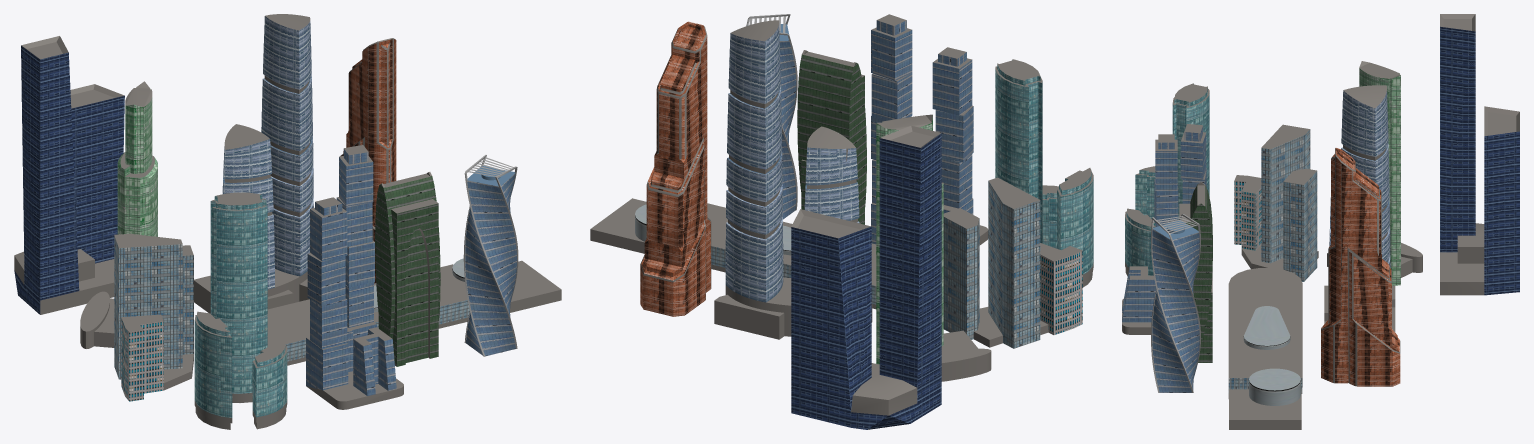
The model's file is Москва-Сити.fbx.
3 renders of one model, left to right at view 1: azimuth 30°, elevation 25°; view 2: azimuth 150°, elevation 25°; view 3: azimuth 270°, elevation 25°, orthographic. The views are drawn at different scales.
Visible parts, largest first — view 1: 8_lvl10, 8_lvl8, 8_lvl4, 8_lvl5, 8_lvl6, 8_lvl3, 8_lvl2, 8_lvl9, 8_lvl7, 8_lvl1; view 2: 8_lvl10, 8_lvl8, 8_lvl6, 8_lvl7, 8_lvl4, 8_lvl5, 8_lvl3, 8_lvl9, 8_lvl1, 8_lvl2; view 3: 8_lvl10, 8_lvl7, 8_lvl1, 8_lvl6, 8_lvl2, 8_lvl4, 8_lvl8, 8_lvl5, 8_lvl9, 8_lvl3.
Part boxes in pixels (x1,y1,x2,y2): 8_lvl10: [14, 36, 124, 314]; 8_lvl8: [194, 14, 313, 313]; 8_lvl4: [306, 145, 403, 409]; 8_lvl5: [194, 192, 287, 429]; 8_lvl6: [114, 233, 193, 401]; 8_lvl3: [375, 172, 440, 366]; 8_lvl2: [463, 155, 518, 356]; 8_lvl9: [80, 81, 157, 348]; 8_lvl7: [340, 38, 396, 283]; 8_lvl1: [267, 258, 561, 365]; 8_lvl10: [791, 125, 941, 429]; 8_lvl8: [714, 20, 872, 339]; 8_lvl6: [943, 177, 1082, 348]; 8_lvl7: [640, 21, 711, 316]; 8_lvl4: [871, 14, 988, 245]; 8_lvl5: [995, 59, 1093, 287]; 8_lvl3: [797, 50, 866, 224]; 8_lvl9: [876, 114, 991, 381]; 8_lvl1: [590, 198, 876, 309]; 8_lvl2: [746, 14, 797, 219]; 8_lvl10: [1440, 14, 1519, 295]; 8_lvl7: [1321, 148, 1400, 386]; 8_lvl1: [1228, 268, 1302, 429]; 8_lvl6: [1234, 124, 1318, 281]; 8_lvl2: [1151, 214, 1200, 392]; 8_lvl4: [1122, 124, 1206, 334]; 8_lvl8: [1324, 85, 1395, 332]; 8_lvl5: [1125, 83, 1209, 275]; 8_lvl9: [1327, 61, 1422, 285]; 8_lvl3: [1179, 182, 1212, 362].
Size of the model in its own units: 1593 by 972 by 1399.
11 materials, 9 textured.
